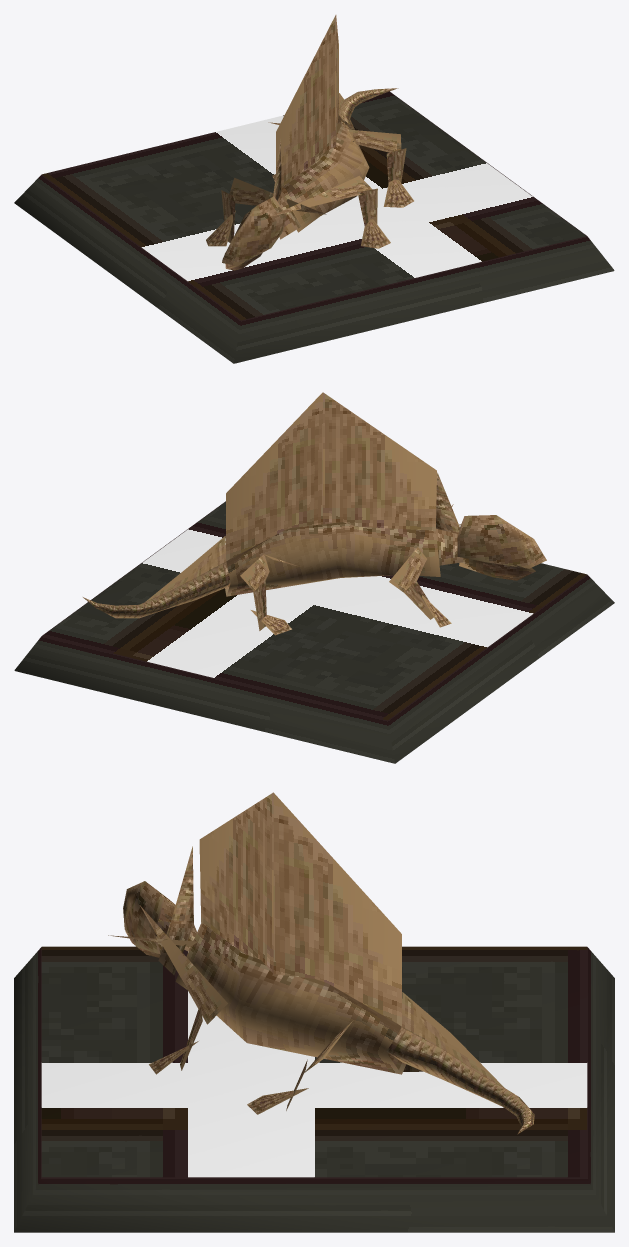
File: int_din_dimet_m.dae
The picture shows the model from 3 angles, top to bottom: view 1: azimuth 30°, elevation 25°; view 2: azimuth 150°, elevation 25°; view 3: azimuth 270°, elevation 25°; orthographic projection. The views are drawn at different scales.
Visible parts, largest first — view 1: int_din_dimet_m; view 2: int_din_dimet_m; view 3: int_din_dimet_m.
Part boxes in pixels (<box>): int_din_dimet_m: <box>14,15,614,363</box>; int_din_dimet_m: <box>14,392,614,763</box>; int_din_dimet_m: <box>14,792,614,1232</box>.
Size of the model in its own units: 26.68 by 17.53 by 26.65.
4 materials, 4 textured.
